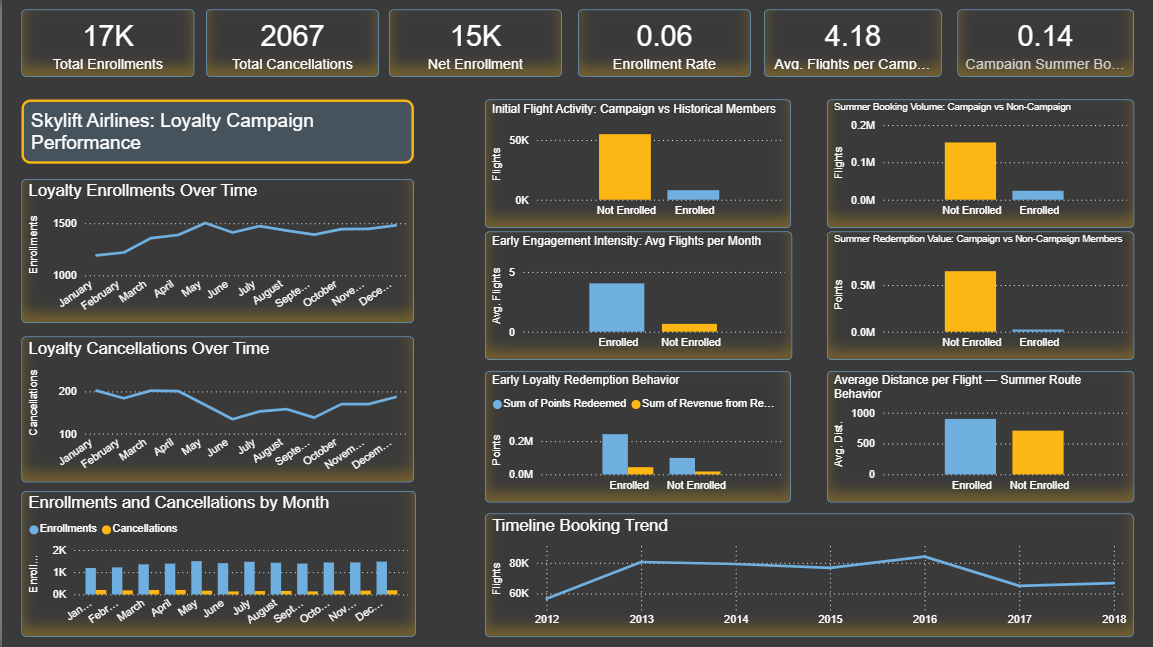

This screenshot's page, from the dashboard's own definition file:
{"tool":"powerbi","page":{"name":"Page 1","canvas":[1280,720],"ordinal":0},"visuals":[{"type":"card","fields":{"Values":["Clean_Customer.Total Enrollments"]},"box":[21.4,12.5,192.2,74.7],"z":0},{"type":"card","fields":{"Values":["Clean_Customer.Total Cancellations"]},"box":[226,12.5,192.2,74.7],"z":1000},{"type":"card","fields":{"Values":["Clean_Customer.Net Enrollment"]},"box":[430.6,12.5,192.2,74.7],"z":2000},{"type":"lineChart","title":"Loyalty Enrollments Over Time","fields":{"Category":["Calendar.Start of Month.Variation.Date Hierarchy.Month"],"Y":["Clean_Customer.Enrollments"]},"box":[21.4,199.3,436,160.1],"z":3000},{"type":"lineChart","title":"Loyalty Cancellations Over Time","fields":{"Category":["Calendar.Start of Month.Variation.Date Hierarchy.Month"],"Y":["Clean_Customer.Cancellations"]},"box":[21.4,375.5,436,161.9],"z":4000},{"type":"clusteredColumnChart","fields":{"Category":["Calendar.Start of Month.Variation.Date Hierarchy.Month"],"Y":["Clean_Customer.Enrollments","Clean_Customer.Cancellations"]},"box":[21.4,546.3,437.7,161.9],"z":5000},{"type":"clusteredColumnChart","title":"Initial Flight Activity: Campaign vs Historical Members","fields":{"Category":["Clean_Customer.Campaign Enrollment"],"Y":["Sum(Clean_Flight.Total Flights)"]},"box":[537.4,112.1,339.9,142.4],"z":6000},{"type":"clusteredColumnChart","title":"Early Engagement Intensity: Avg Flights per Month","fields":{"Category":["Clean_Customer.Campaign Enrollment"],"Y":["Clean_Flight.Avg Flights per Month"]},"box":[537.4,258,341.7,142.4],"z":7000},{"type":"clusteredColumnChart","title":"Early Loyalty Redemption Behavior","fields":{"Category":["Clean_Customer.Campaign Enrollment"],"Y":["Sum(Clean_Flight.Points Redeemed)","Sum(Clean_Flight.Revenue from Redemption)"]},"box":[537.4,412.8,339.9,145.9],"z":8000},{"type":"clusteredColumnChart","title":"Summer Booking Volume: Campaign vs Non-Campaign","fields":{"Category":["Clean_Customer.Campaign Enrollment"],"Y":["Sum(Clean_Flight.Total Flights)"]},"box":[916.4,112.1,341.7,142.4],"z":9000},{"type":"clusteredColumnChart","title":"Summer Redemption Value: Campaign vs Non-Campaign Members","fields":{"Category":["Clean_Customer.Campaign Enrollment"],"Y":["Sum(Clean_Flight.Revenue from Redemption)"]},"box":[916.4,258,341.7,142.4],"z":10000},{"type":"clusteredColumnChart","title":"Average Distance per Flight — Summer Route Behavior","fields":{"Category":["Clean_Customer.Campaign Enrollment"],"Y":["Avg(Clean_Flight.Average Dist. Per Flight)1"]},"box":[916.4,412.8,341.7,145.9],"z":11000},{"type":"lineChart","title":"Timeline Booking Trend","fields":{"Category":["Calendar.Start of Month.Variation.Date Hierarchy.Year","Calendar.Start of Month.Variation.Date Hierarchy.Month"],"Y":["Sum(Clean_Flight.Total Flights)"]},"box":[537.4,571.2,720.7,137],"z":12000},{"type":"card","fields":{"Values":["Clean_Customer.Campaign Enrollment Rate"]},"box":[640.6,12.5,192.2,74.7],"z":13000},{"type":"card","fields":{"Values":["Clean_Flight.Avg Flights per Campaign Member"]},"box":[847,12.5,197.5,74.7],"z":14000},{"type":"card","fields":{"Values":["Clean_Flight.Campaign Summer Booking Share"]},"box":[1062.3,12.5,195.7,74.7],"z":15000},{"type":"textbox","box":[21.4,112.1,436,71.2],"z":16000}]}

Visuals, with their boxes in screenshot pixels (x1, y1, x2, y2), scaled from the page's 1280x720 canvas onto the 1153x647 screenshot:
card - Clean_Customer.Total Enrollments: region(19, 11, 192, 78)
card - Clean_Customer.Total Cancellations: region(204, 11, 377, 78)
card - Clean_Customer.Net Enrollment: region(388, 11, 561, 78)
"Loyalty Enrollments Over Time" lineChart: region(19, 179, 412, 323)
"Loyalty Cancellations Over Time" lineChart: region(19, 337, 412, 483)
clusteredColumnChart - Calendar.Start of Month.Variation.Date Hierarchy.Month x Clean_Customer.Enrollments: region(19, 491, 414, 636)
"Initial Flight Activity: Campaign vs Historical Members" clusteredColumnChart: region(484, 101, 790, 229)
"Early Engagement Intensity: Avg Flights per Month" clusteredColumnChart: region(484, 232, 792, 360)
"Early Loyalty Redemption Behavior" clusteredColumnChart: region(484, 371, 790, 502)
"Summer Booking Volume: Campaign vs Non-Campaign" clusteredColumnChart: region(825, 101, 1133, 229)
"Summer Redemption Value: Campaign vs Non-Campaign Members" clusteredColumnChart: region(825, 232, 1133, 360)
"Average Distance per Flight — Summer Route Behavior" clusteredColumnChart: region(825, 371, 1133, 502)
"Timeline Booking Trend" lineChart: region(484, 513, 1133, 636)
card - Clean_Customer.Campaign Enrollment Rate: region(577, 11, 750, 78)
card - Clean_Flight.Avg Flights per Campaign Member: region(763, 11, 941, 78)
card - Clean_Flight.Campaign Summer Booking Share: region(957, 11, 1133, 78)
textbox: region(19, 101, 412, 165)
